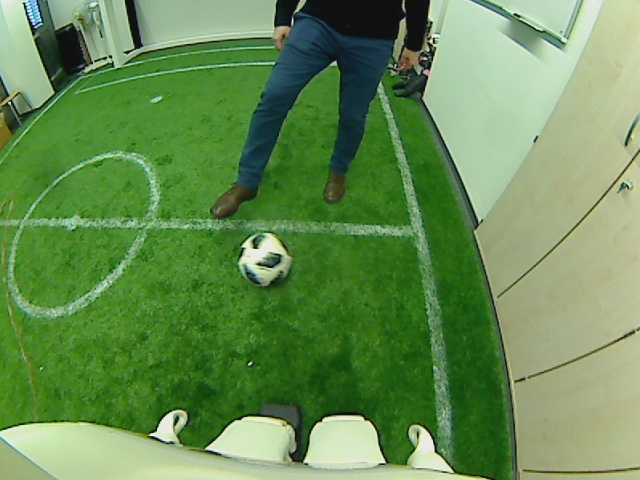ball: (235, 230, 293, 287)
